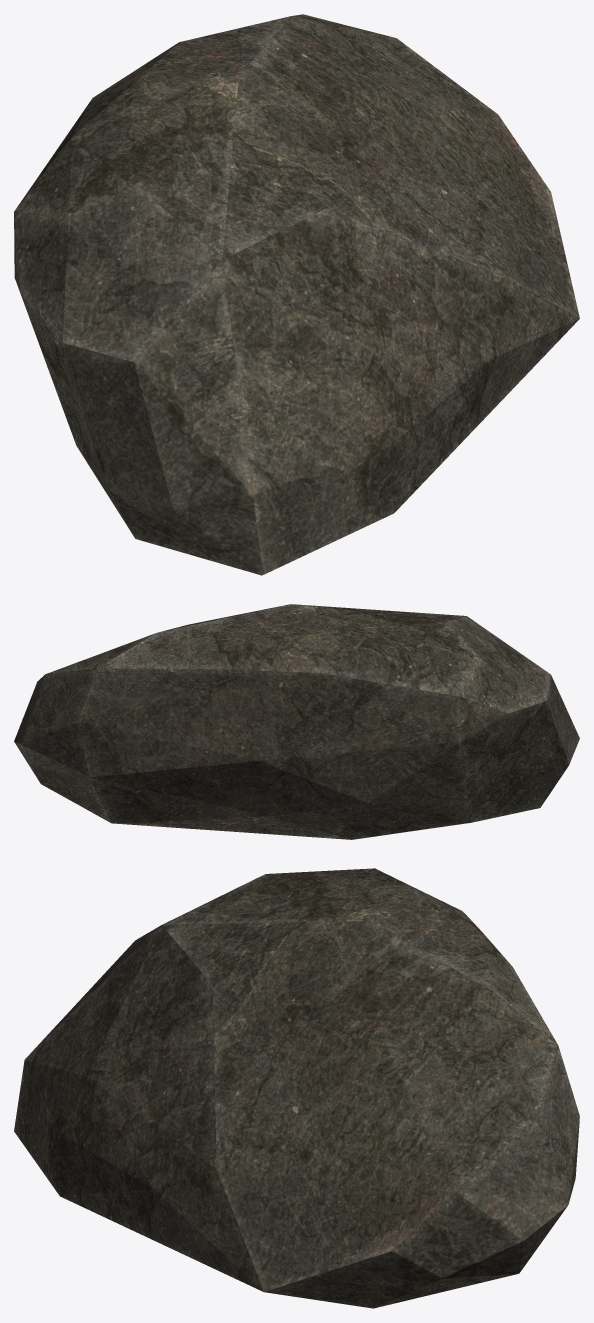
File: stone_2.obj
3 views of the same model, one above another, from view 1: azimuth 30°, elevation 25°; view 2: azimuth 150°, elevation 25°; view 3: azimuth 270°, elevation 25° (orthographic). The views are drawn at different scales.
Parts seen in each view (by area): view 1: stone_2; view 2: stone_2; view 3: stone_2.
Part boxes in pixels (<box>): stone_2: <box>14,14,579,575</box>; stone_2: <box>14,604,579,839</box>; stone_2: <box>14,868,579,1308</box>.
Size of the model in its own units: 3.62 by 2.01 by 3.3.
